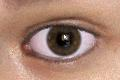eye: (47, 25, 81, 56)
